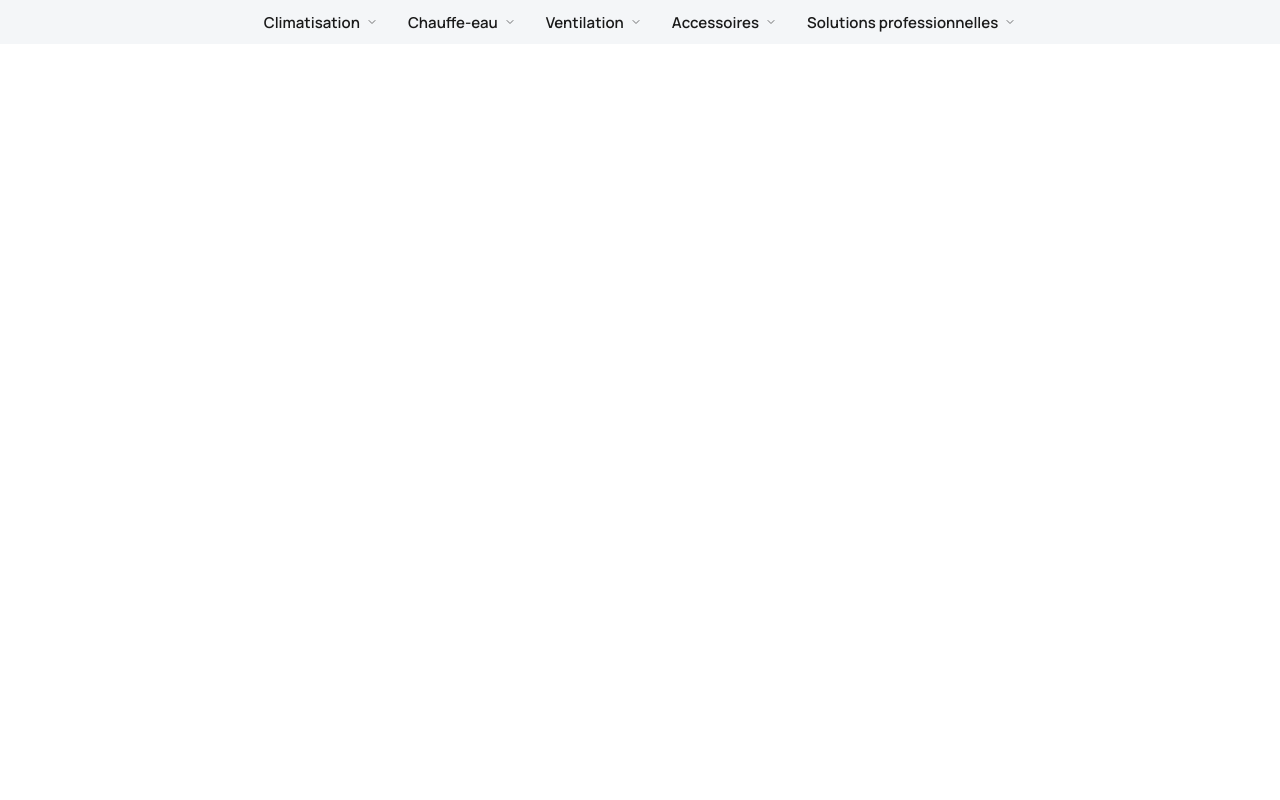
ArfroMegaNav › serves unused panels as a light link list, the full panel mounting on first hover or focus
The image size is (1280, 800).
Expected: the link "Voir toute la gamme" is not shown
Hover over the button "Climatisation" at point(321, 22), box [252, 0, 390, 44]
(page scrolled)
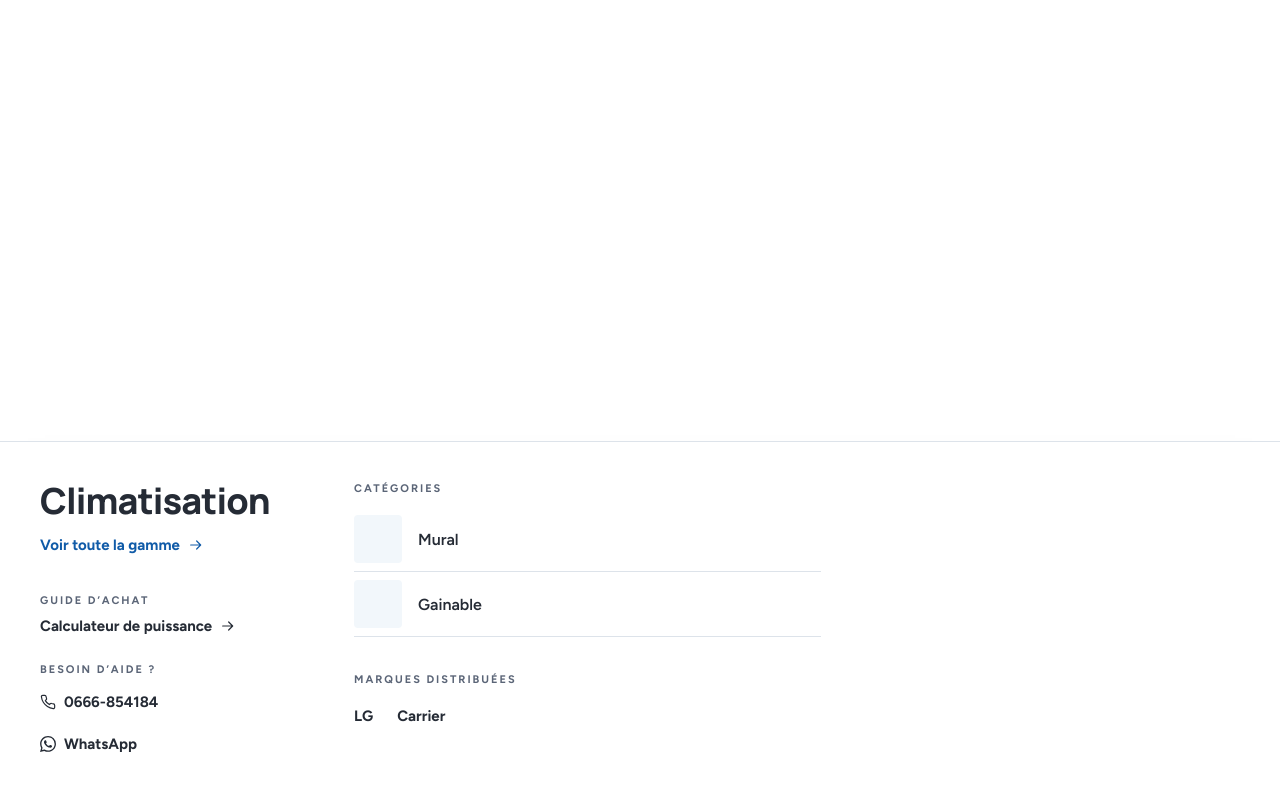
Expected: the link "Voir toute la gamme" is shown, [40, 536, 204, 554]
